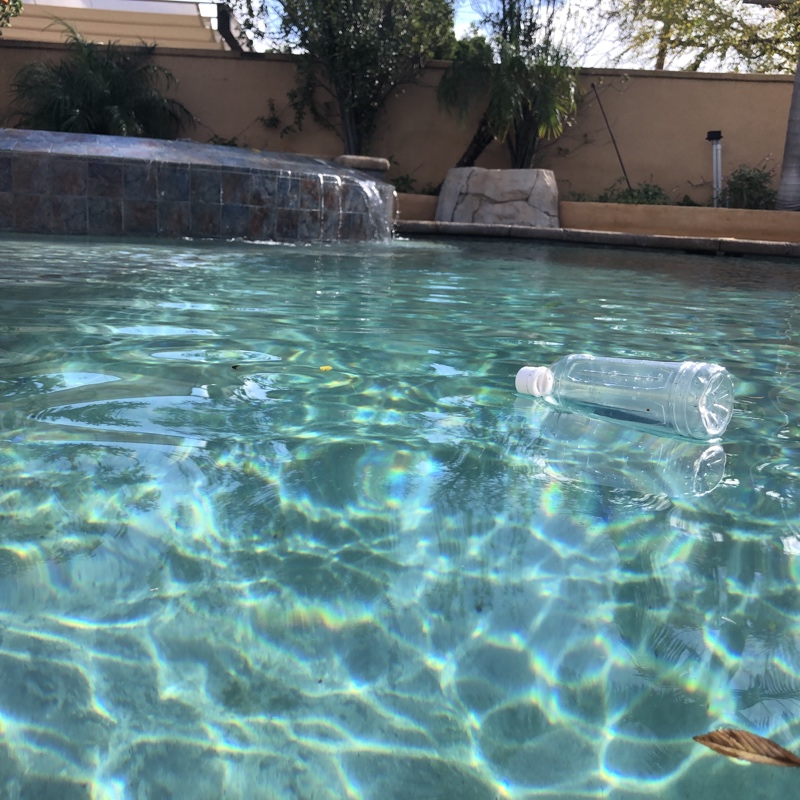Plastic Bottle: (508, 350, 738, 444)
